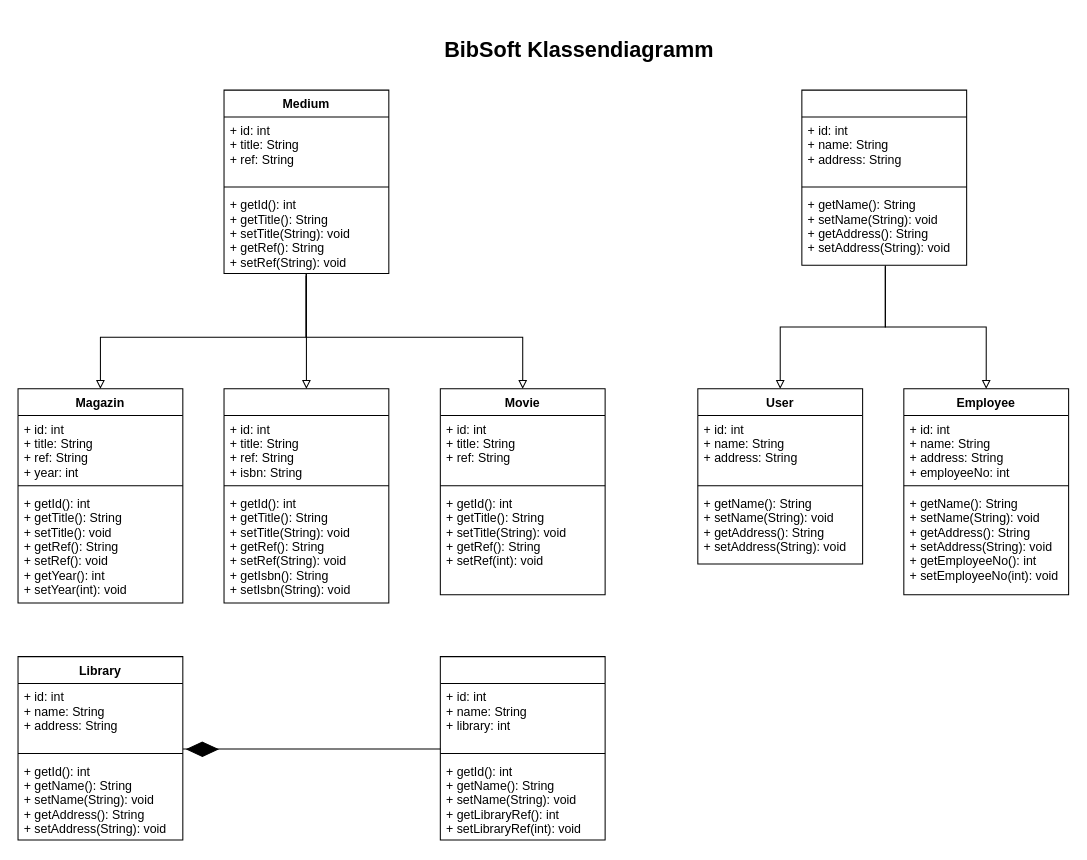
This 1087x860 diagram has some shape labels left out. The shapes that lost their labels are listed below. From the top down, each one's box as (x1, y1, x2, y2) in pixels, then its label:
(801, 89, 967, 265): Person
(223, 388, 389, 603): Book
(439, 656, 605, 840): Section
